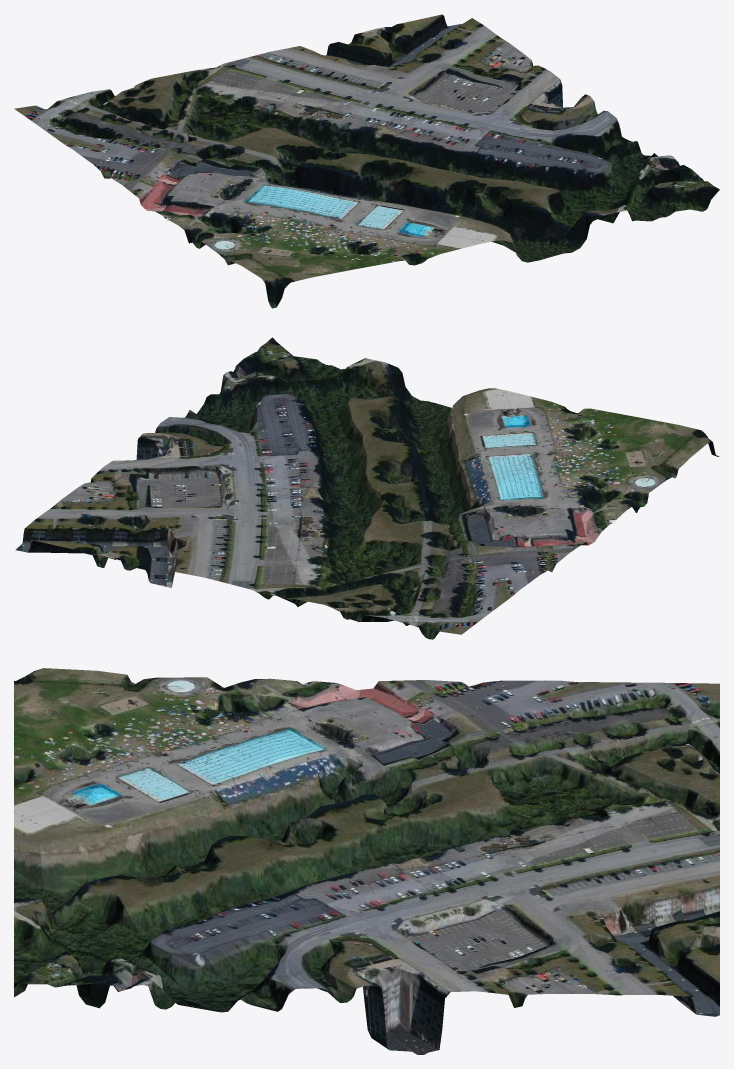
Rendered from map_13_2043_3446.dae.
3 views of the same model, one above another, from view 1: azimuth 30°, elevation 25°; view 2: azimuth 150°, elevation 25°; view 3: azimuth 270°, elevation 25° (orthographic). The views are drawn at different scales.
Parts seen in each view (by area): view 1: Ter0; view 2: Ter0; view 3: Ter0.
Part boxes in pixels (x1,y1,x2,y2): Ter0: [14, 14, 719, 308]; Ter0: [15, 337, 719, 639]; Ter0: [14, 668, 719, 1054].
Size of the model in its own units: 256 by 256 by 35.33.
Materials: 3 (3 with a texture image).
